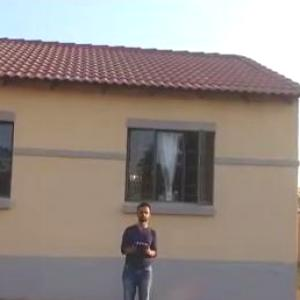follow: (112, 198, 162, 299)
